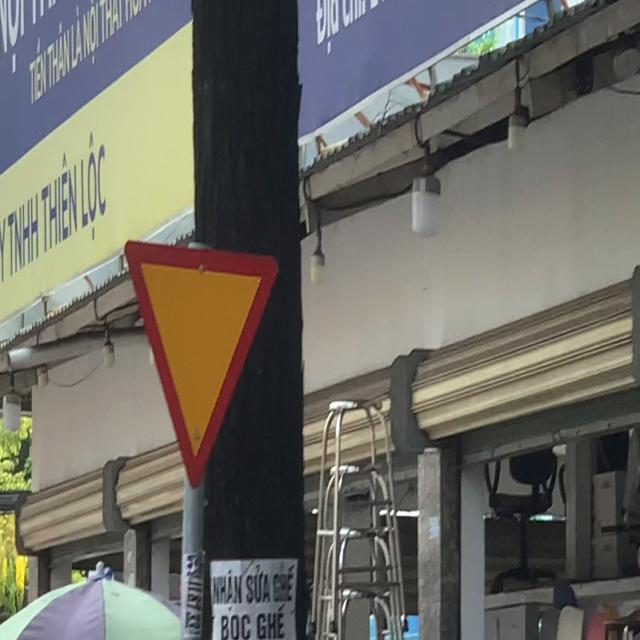Giao voi duong uu tien: (124, 237, 280, 492)
